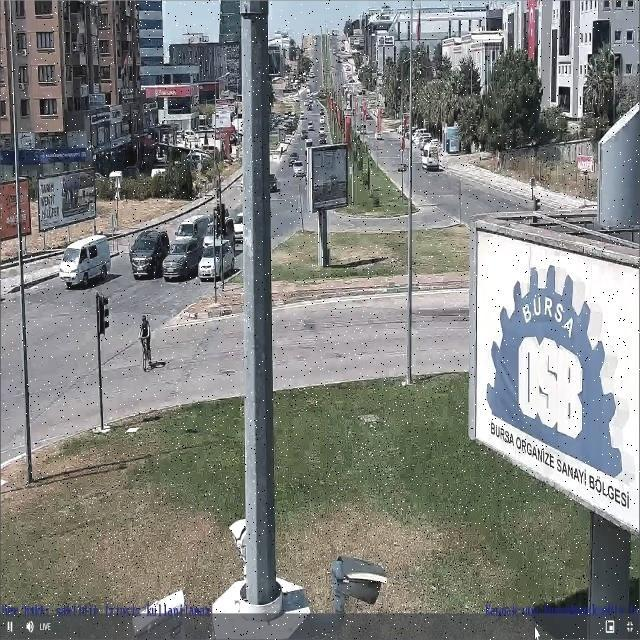Car: (199, 240, 239, 282), (161, 242, 202, 281), (293, 161, 306, 178)
Truck: (421, 145, 438, 169)
Van: (58, 233, 110, 289), (126, 227, 168, 281), (174, 213, 209, 241)
